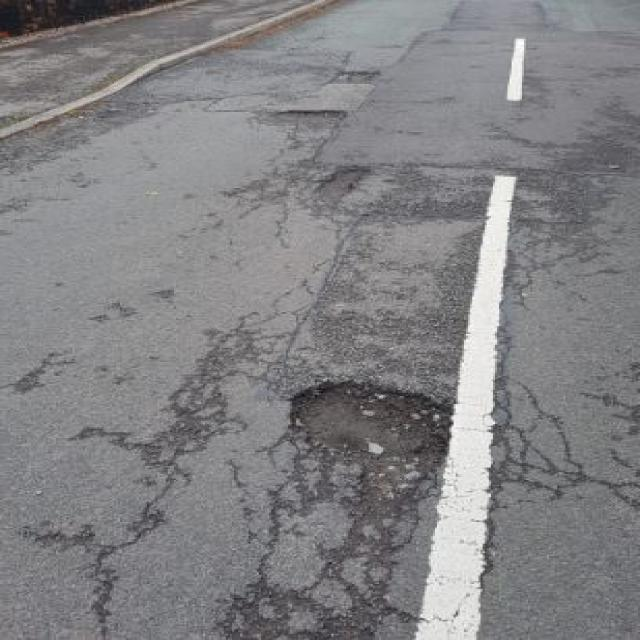pothole: (278, 373, 472, 478)
